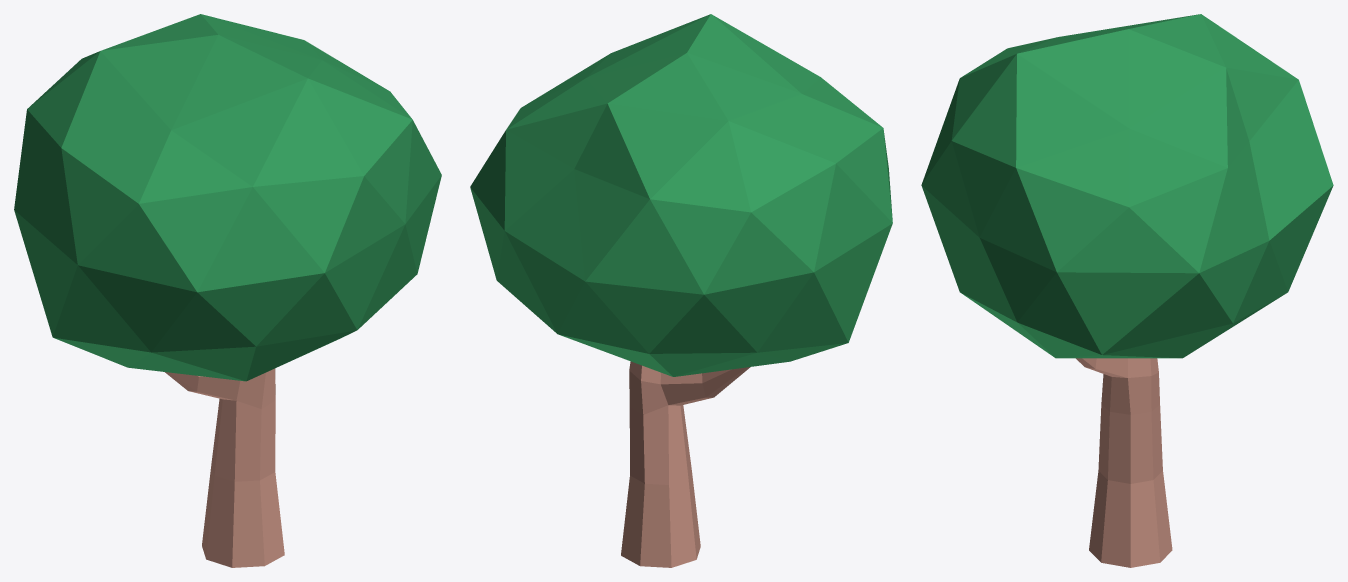
The model's file is Tree2, Short_Skinny2.fbx.
3 views of the same model, side by side, from view 1: azimuth 30°, elevation 25°; view 2: azimuth 150°, elevation 25°; view 3: azimuth 270°, elevation 25° (orthographic). The views are drawn at different scales.
Parts seen in each view (by area): view 1: Tree2; view 2: Tree2; view 3: Tree2.
Boxes of the visible parts, x1,y1,x2,y2 form: Tree2: (14, 14, 441, 567); Tree2: (470, 14, 892, 567); Tree2: (921, 14, 1333, 567).
Bounding box in the file's own units: 204 × 278 × 204.
